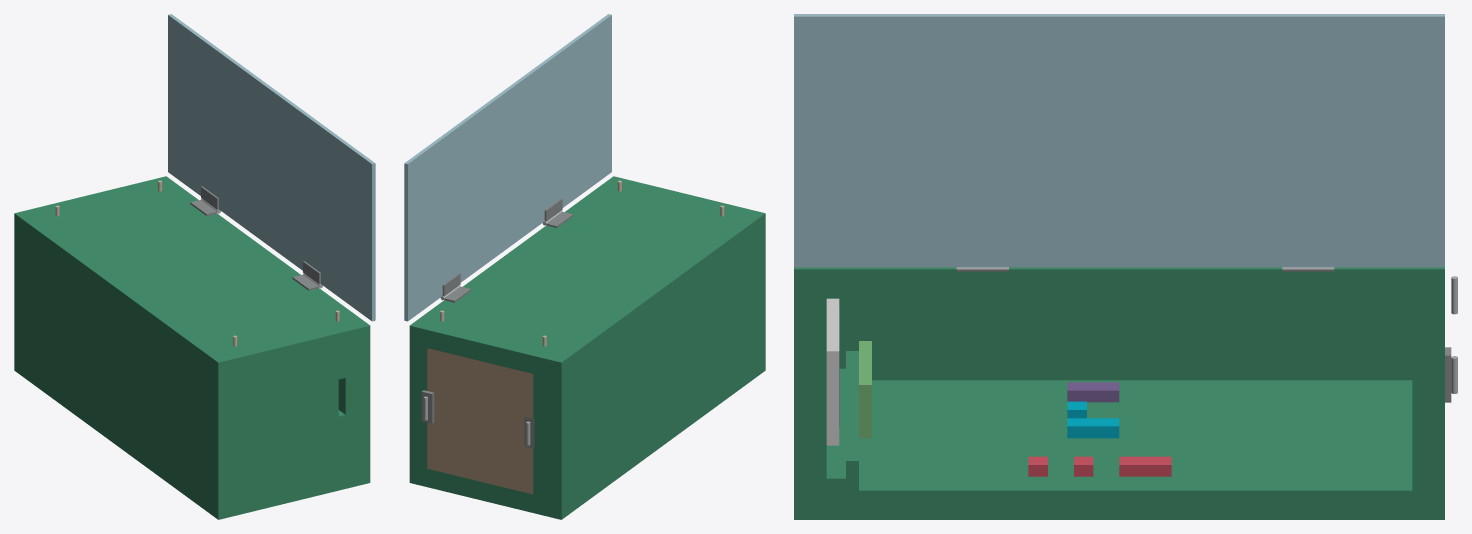
File: CropCare Unit v4.glb
3 renders of one model, left to right at view 1: azimuth 30°, elevation 25°; view 2: azimuth 150°, elevation 25°; view 3: azimuth 270°, elevation 25°, orthographic. The views are drawn at different scales.
Parts seen in each view (by area): view 1: Mesh_Mesh_head_geo.001_lambert2SG.001; view 2: Mesh_Mesh_head_geo.001_lambert2SG.001; view 3: Mesh_Mesh_head_geo.001_lambert2SG.001.
Boxes of the visible parts, <box> form: Mesh_Mesh_head_geo.001_lambert2SG.001: <box>14,14,375,519</box>; Mesh_Mesh_head_geo.001_lambert2SG.001: <box>404,14,765,519</box>; Mesh_Mesh_head_geo.001_lambert2SG.001: <box>794,14,1457,519</box>.
Size of the model in its own units: 44.48 by 86 by 102.
